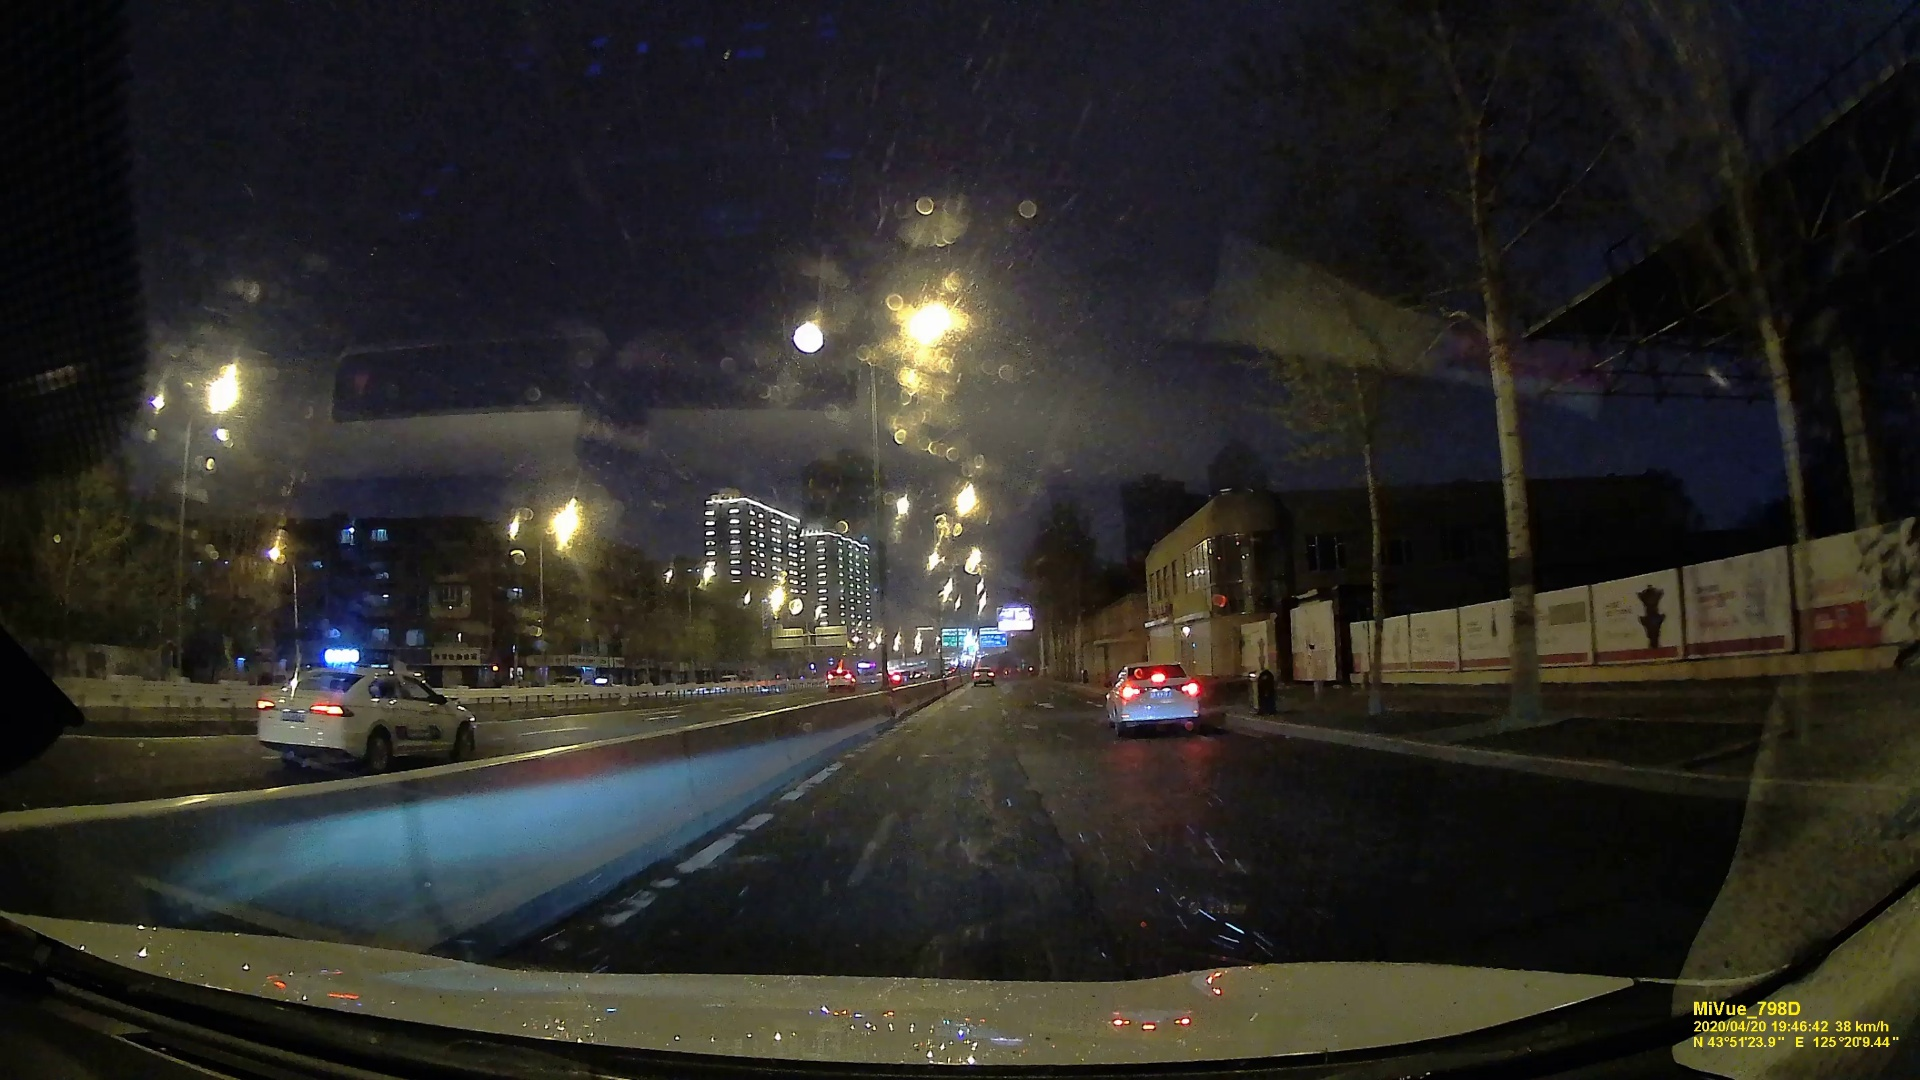traffic_sign: (942, 626, 971, 647), (978, 628, 1005, 647)
vehicle: (252, 665, 477, 767), (1106, 658, 1203, 736), (825, 669, 857, 694), (971, 666, 994, 686)
